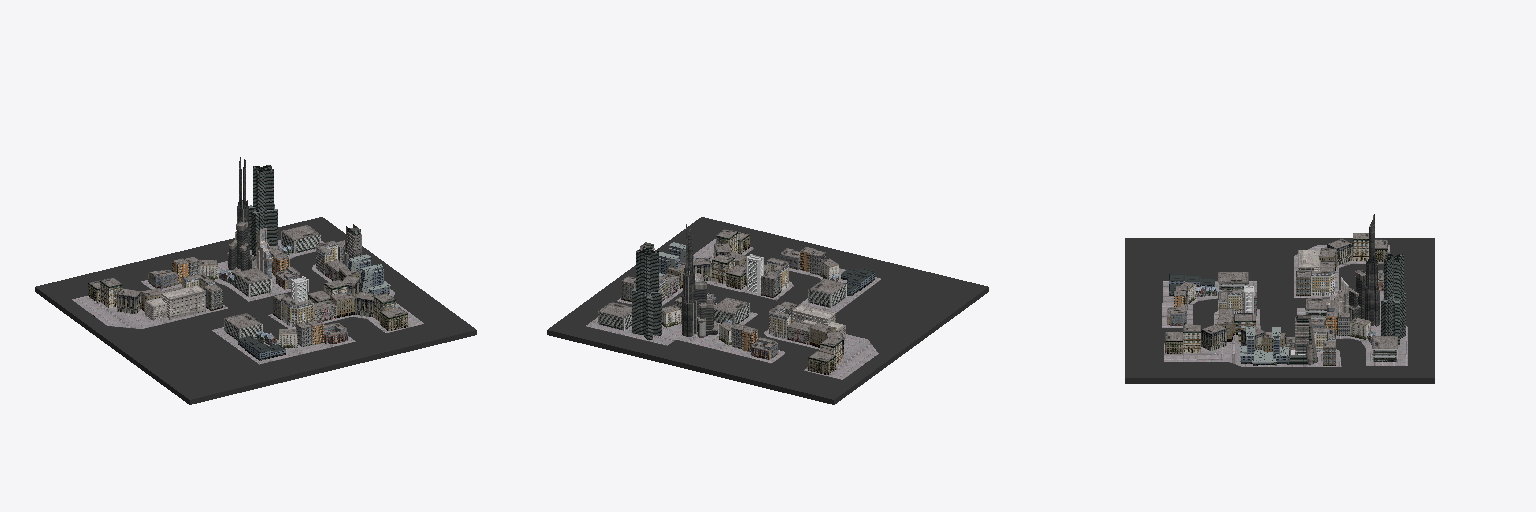
3 renders of one model, left to right at view 1: azimuth 30°, elevation 25°; view 2: azimuth 150°, elevation 25°; view 3: azimuth 270°, elevation 25°, orthographic.
Parts seen in each view (by area): view 1: TheCity; view 2: TheCity; view 3: TheCity.
Boxes of the visible parts, <box> form: TheCity: <box>35,157,476,404</box>; TheCity: <box>547,217,988,404</box>; TheCity: <box>1125,214,1434,383</box>.
Size of the model in its own units: 2277 by 871 by 2124.
4 materials, 3 textured.